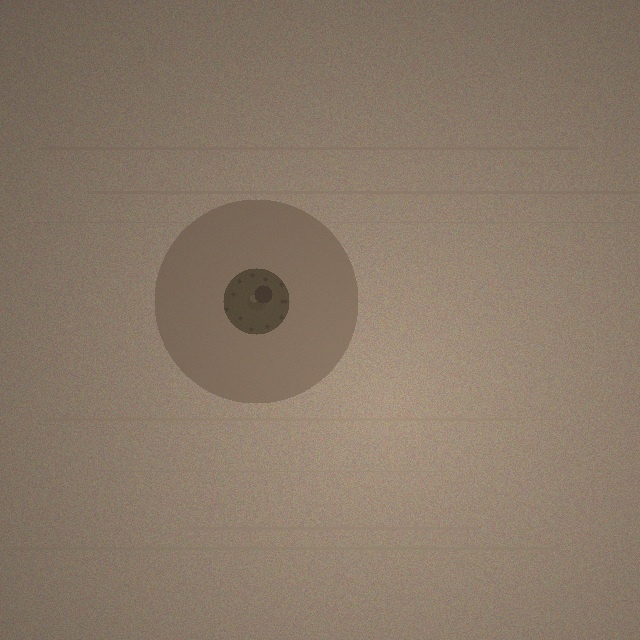cold_weld: (154, 199, 358, 403)
